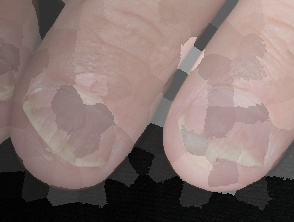Nail_psoriasis: (153, 51, 294, 198), (10, 63, 138, 192), (0, 33, 21, 112)
